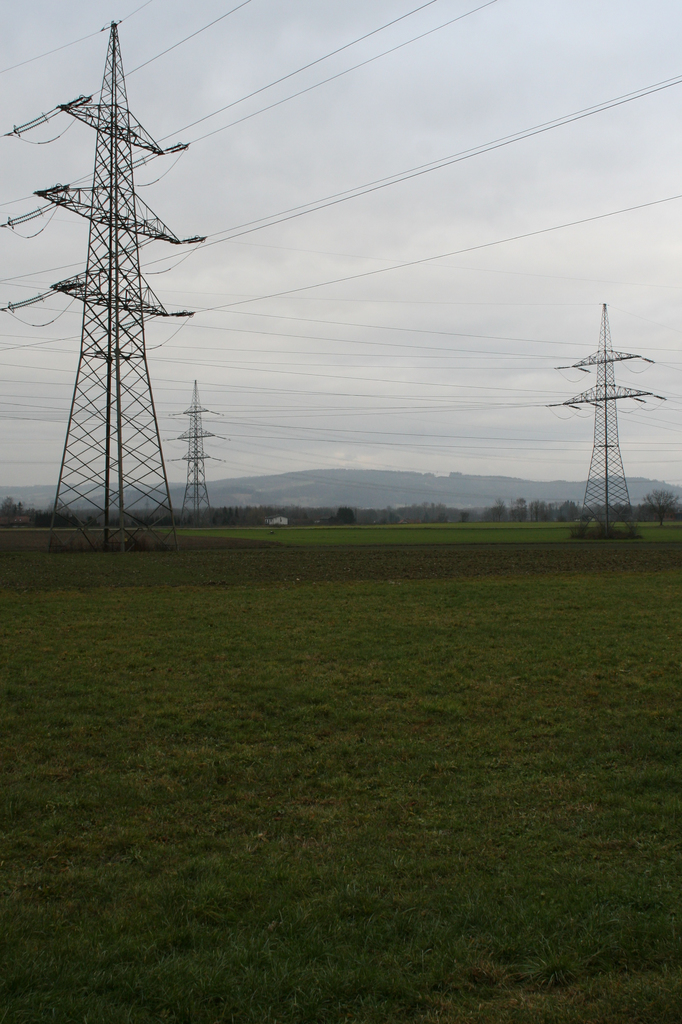Tree: (0, 487, 682, 528)
